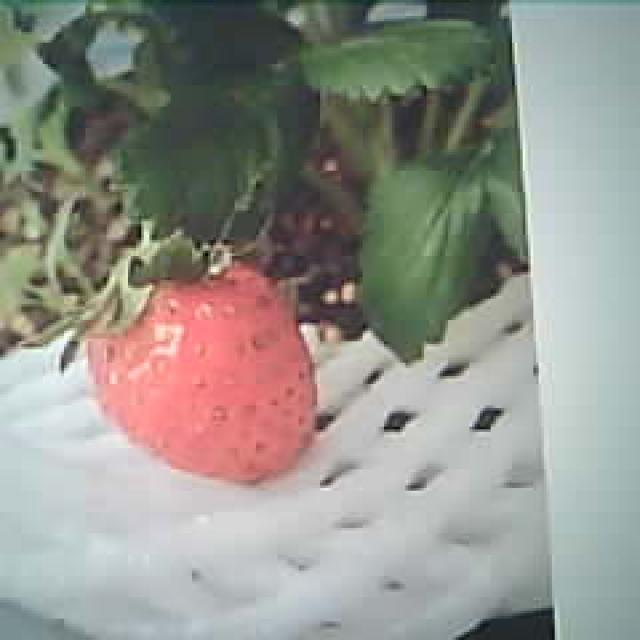strawberry: (91, 269, 321, 481)
